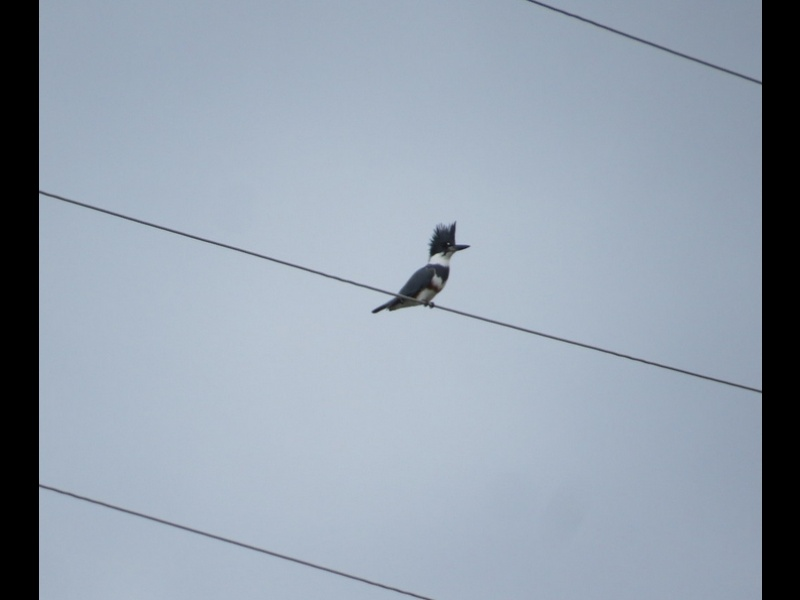kingfisher: (370, 220, 471, 316)
